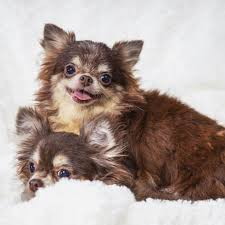dog: (34, 22, 225, 197), (15, 115, 114, 205)
